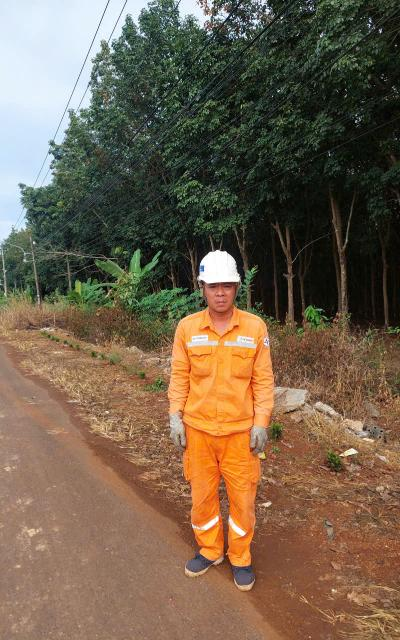gloves: (156, 407, 197, 452), (241, 422, 269, 461)
helmet: (193, 241, 253, 291)
shoes: (180, 538, 227, 587), (226, 546, 262, 600)
